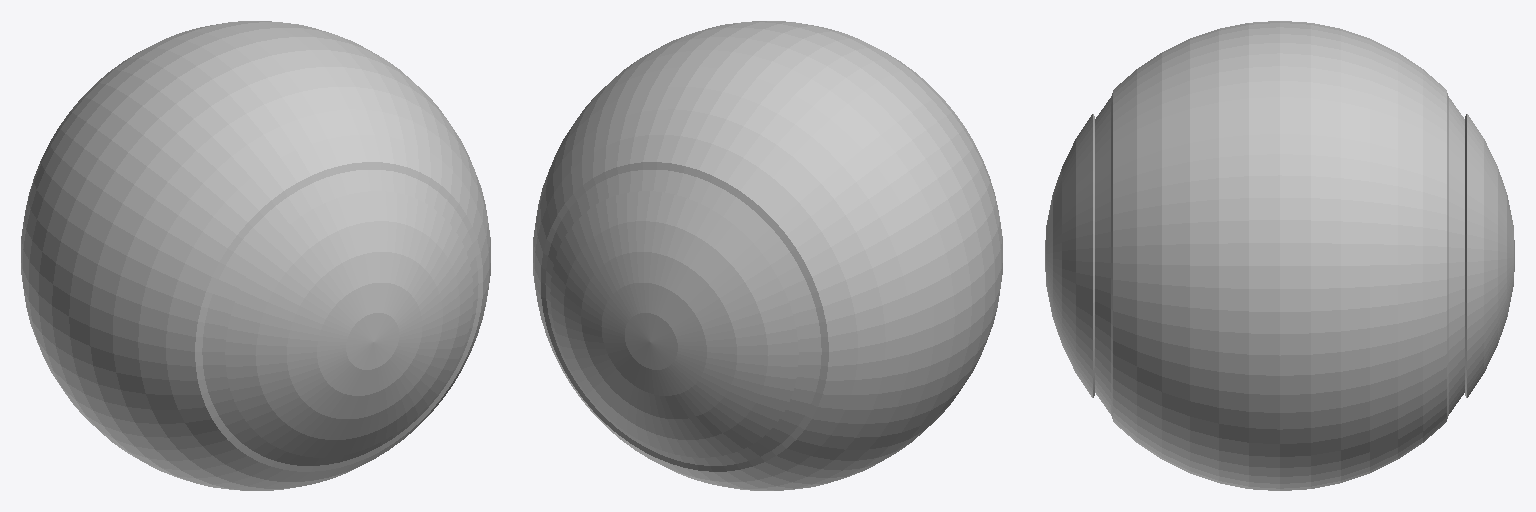
File: Ball.obj
The picture shows the model from 3 angles: view 1: azimuth 30°, elevation 25°; view 2: azimuth 150°, elevation 25°; view 3: azimuth 270°, elevation 25°; orthographic projection.
Parts seen in each view (by area): view 1: Sphere; view 2: Sphere; view 3: Sphere.
Part boxes in pixels (x1,y1,x2,y2): Sphere: (21,21,490,490); Sphere: (533,21,1002,490); Sphere: (1045,21,1514,490).
Size of the model in its own units: 2 by 2 by 2.